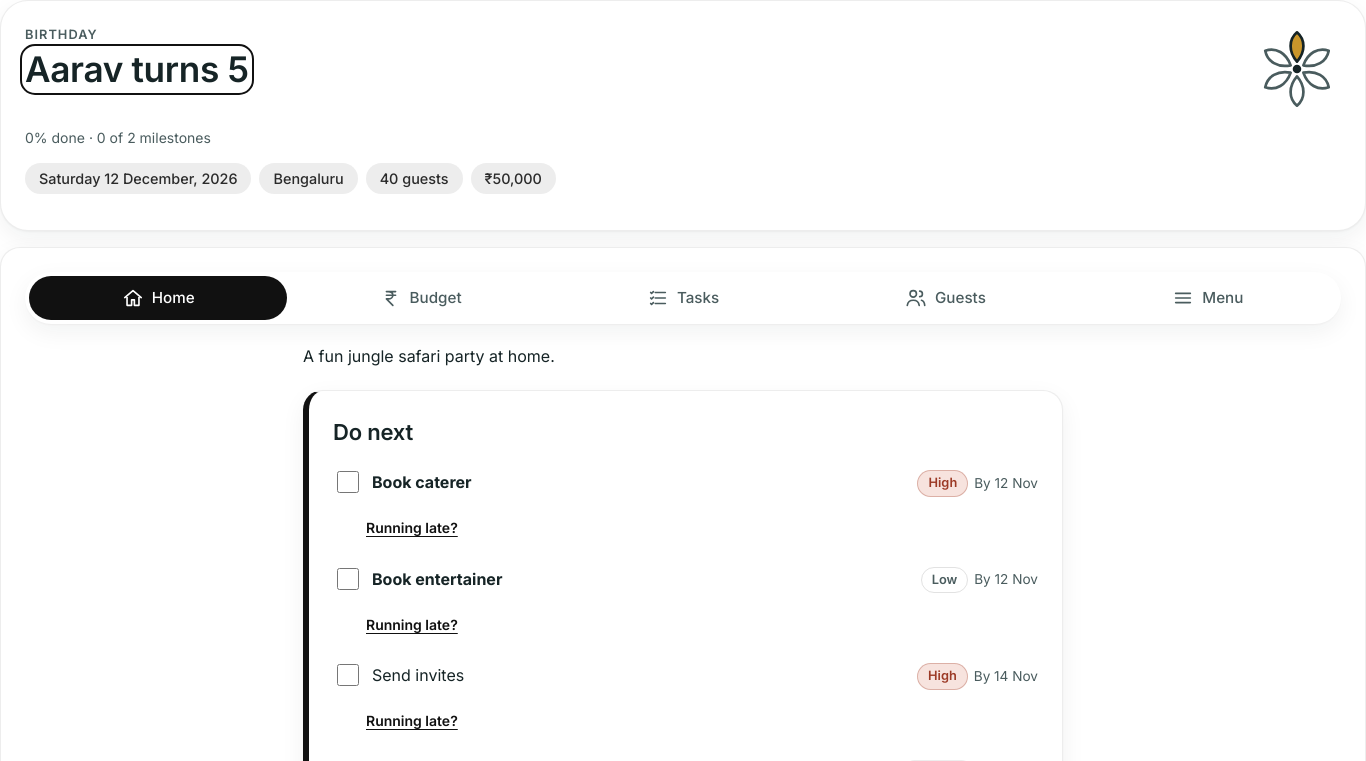
Test: Ideas section › adds an idea to the plan with What changed and Undo
Click the button "Menu" at (1208, 298), box [1079, 276, 1337, 320]
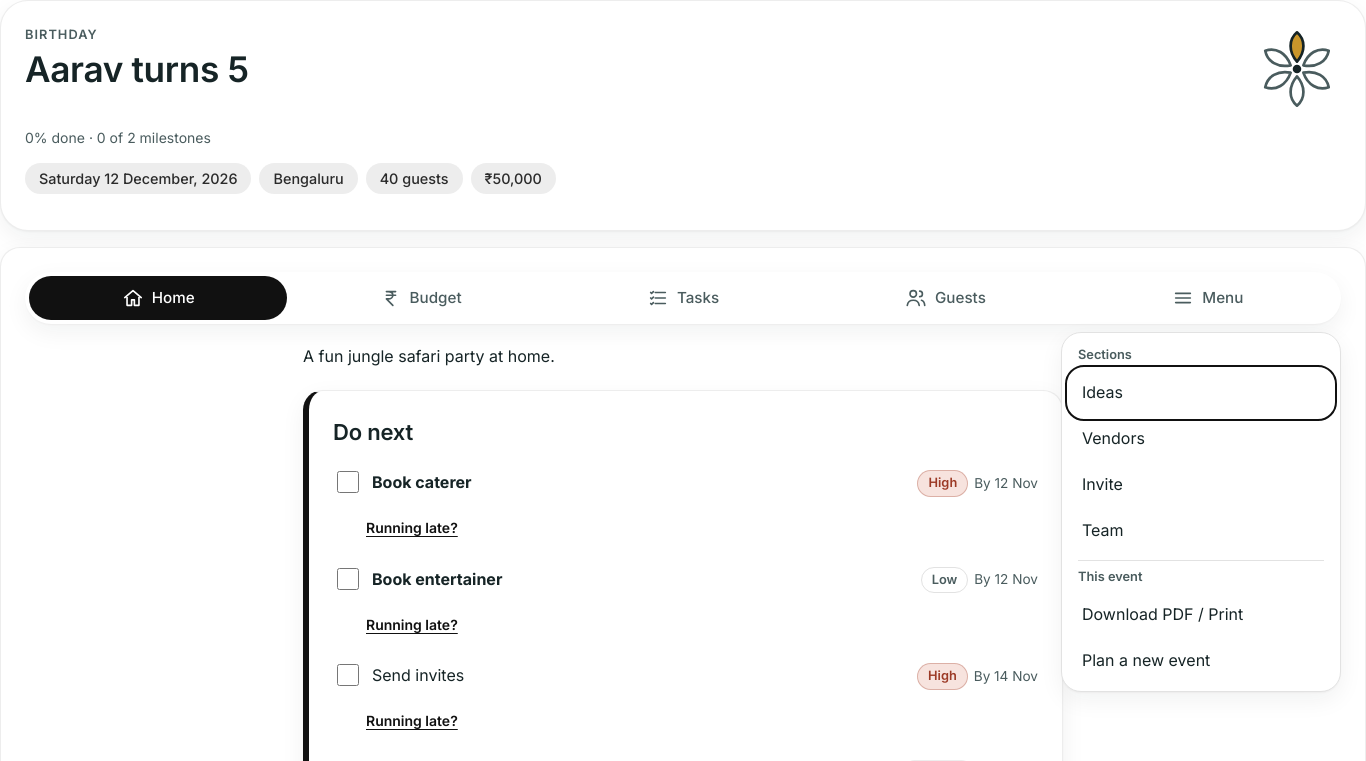
Click the button "Ideas" at (1103, 392), box [1070, 370, 1332, 416]
(page scrolled)
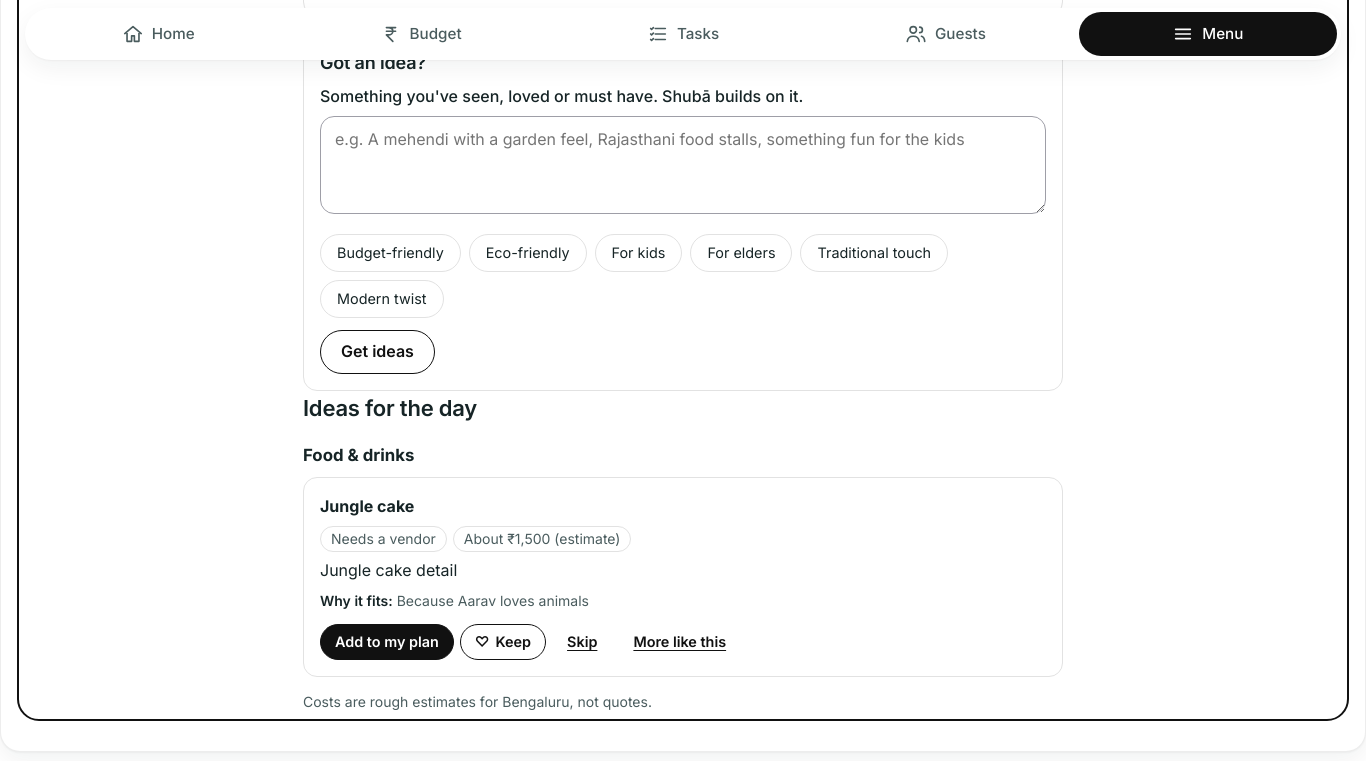
Click the button with aria-label "Add to my plan: Jungle cake" at (387, 642), box [320, 624, 454, 660]
(page scrolled)
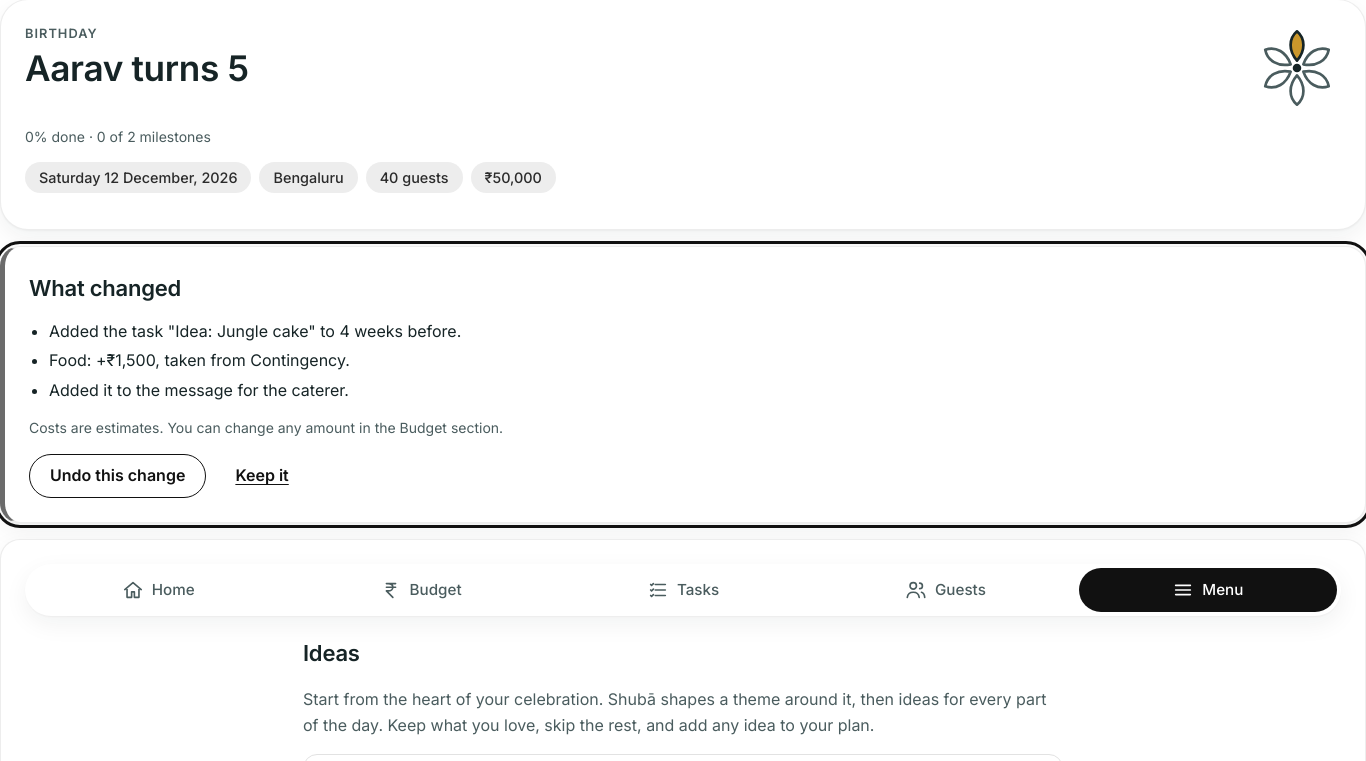
Result: the list item "Added the task \"Idea: Jungle cake\" to 4 weeks before." is shown at [49, 321, 461, 341]
Result: the list item "Food: +₹1,500, taken from Contingency." is shown at [49, 350, 350, 370]
Result: the list item "Added it to the message for the caterer." is shown at [49, 380, 349, 400]
Click the button "Tasks" at (683, 590), box [554, 568, 812, 612]
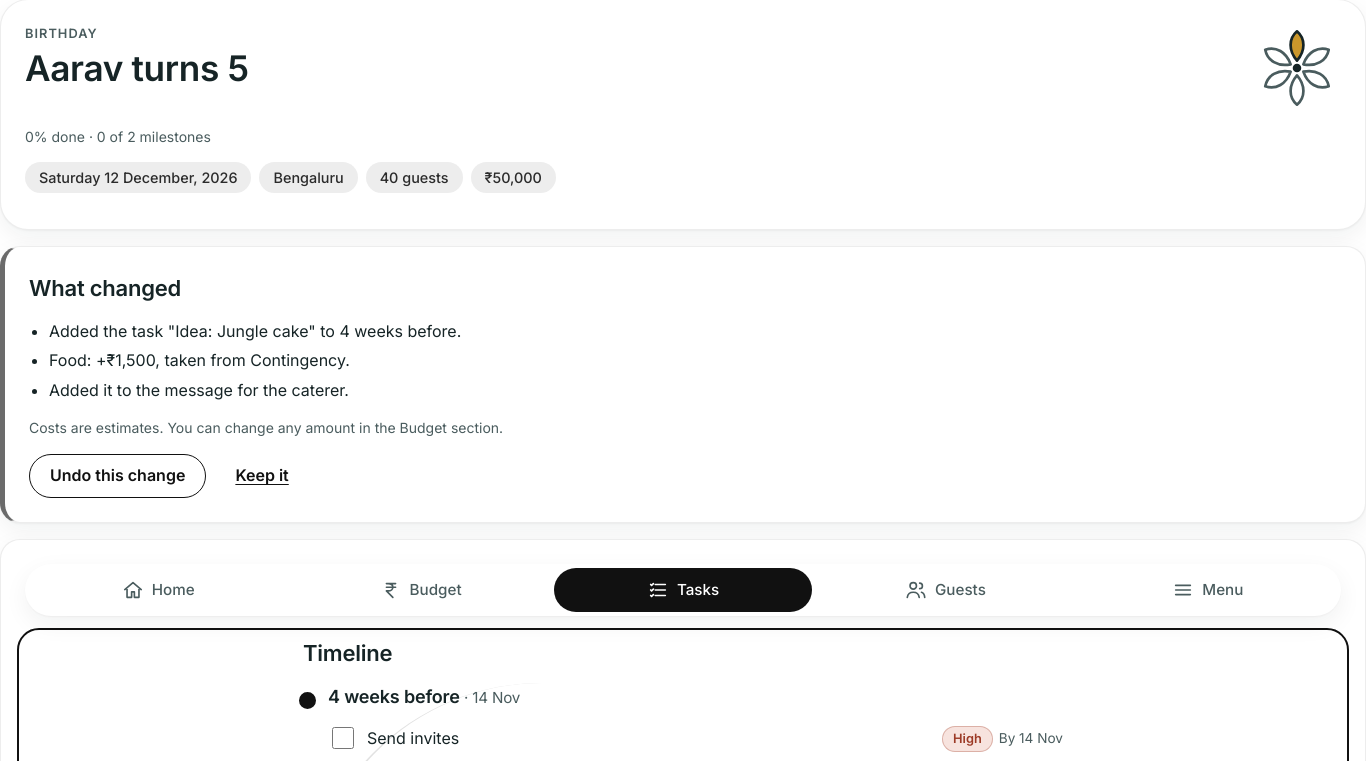
Click the button "Undo this change" at (118, 476), box [29, 454, 206, 498]
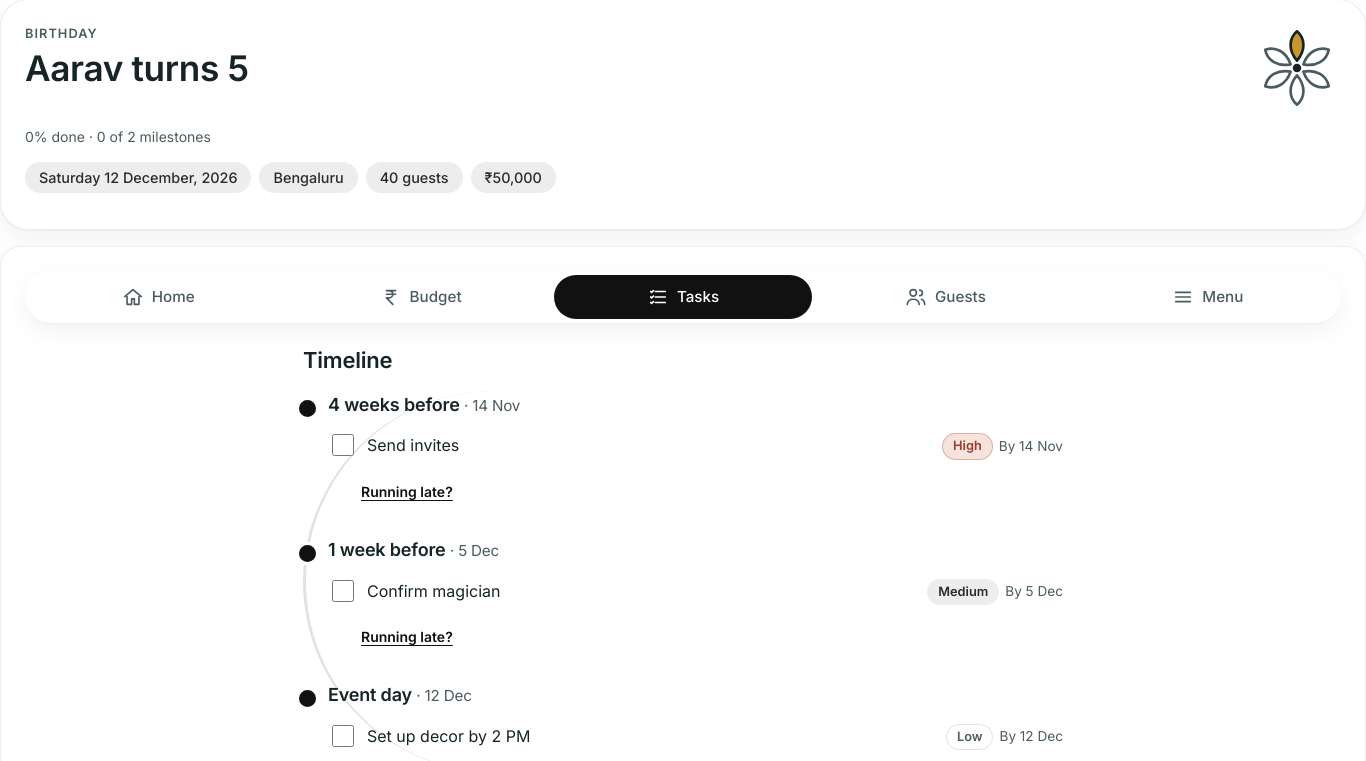
Result: the list item "Idea: Jungle cake" is gone
